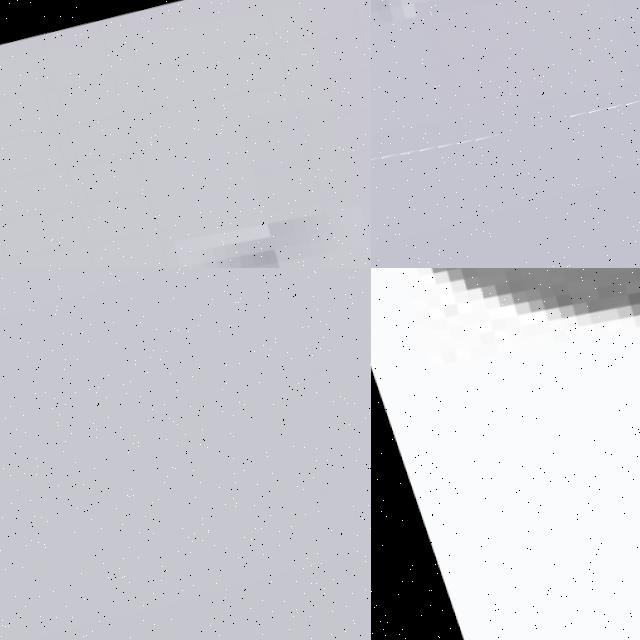0: (0, 0, 371, 268), (371, 0, 640, 195)
drone: (371, 268, 640, 640)
